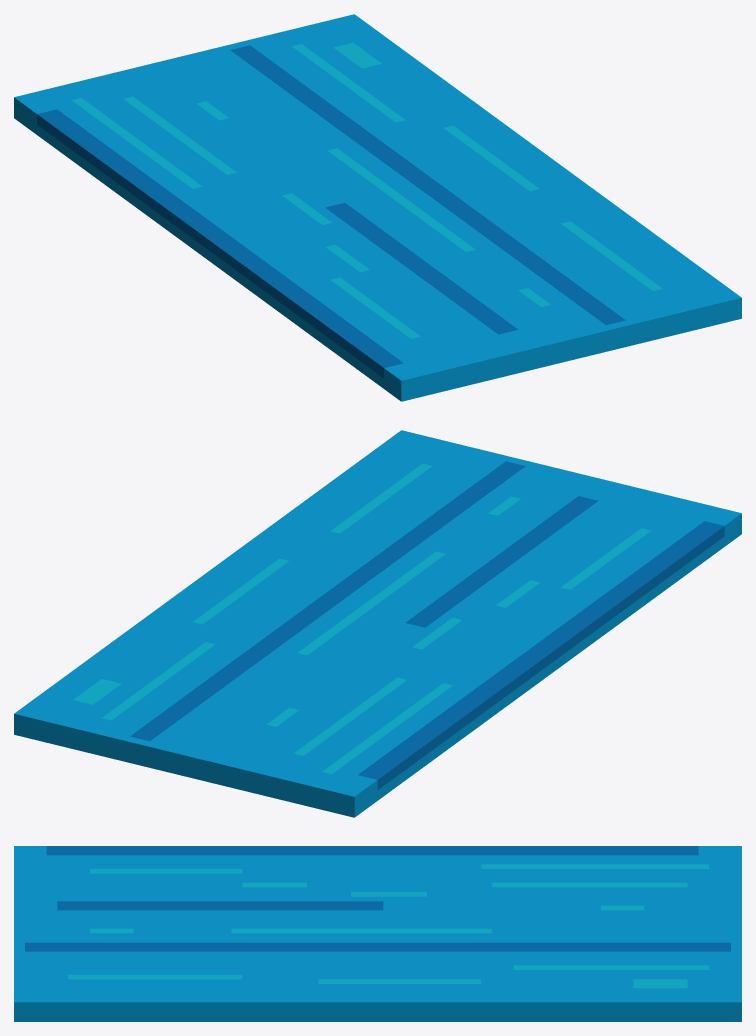
Rendered from WATER.obj.
3 views of the same model, one above another, from view 1: azimuth 30°, elevation 25°; view 2: azimuth 150°, elevation 25°; view 3: azimuth 270°, elevation 25° (orthographic). The views are drawn at different scales.
Size of the model in its own units: 3.4 by 0.2 by 6.7.
Materials: 1 (1 with a texture image).
